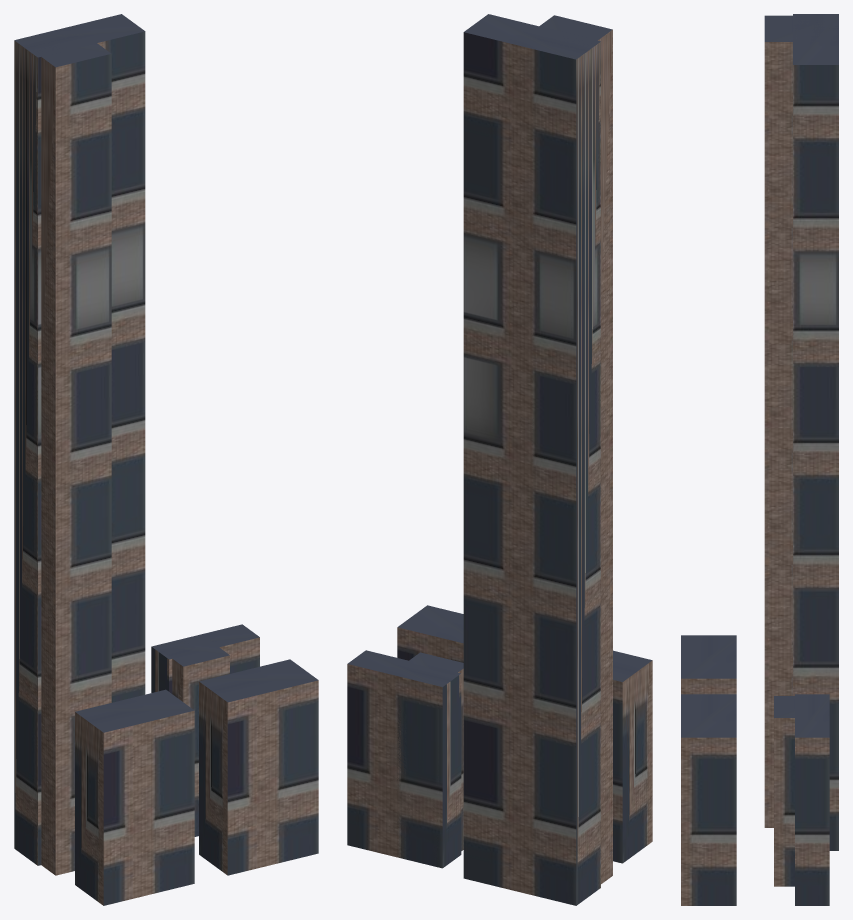
Rendered from block_06.obj.
3 renders of one model, left to right at view 1: azimuth 30°, elevation 25°; view 2: azimuth 150°, elevation 25°; view 3: azimuth 270°, elevation 25°, orthographic. The views are drawn at different scales.
Parts seen in each view (by area): view 1: b0, b3, b1, b2; view 2: b0, b2, b1, b3; view 3: b0, b3, b2, b1.
Boxes of the visible parts, <box> form: b0: <box>14,14,145,875</box>; b3: <box>199,659,318,875</box>; b1: <box>75,689,194,905</box>; b2: <box>151,624,259,836</box>; b0: <box>463,14,612,905</box>; b2: <box>347,650,463,868</box>; b1: <box>613,650,652,863</box>; b3: <box>397,605,463,662</box>; b0: <box>764,14,838,850</box>; b3: <box>681,694,736,905</box>; b2: <box>774,694,829,905</box>; b1: <box>681,635,736,694</box>.
Bounding box in the file's own units: 4.05 × 14 × 2.55.
